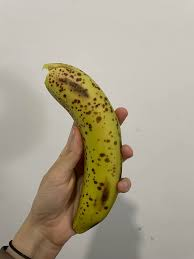banana: (39, 55, 127, 235)
